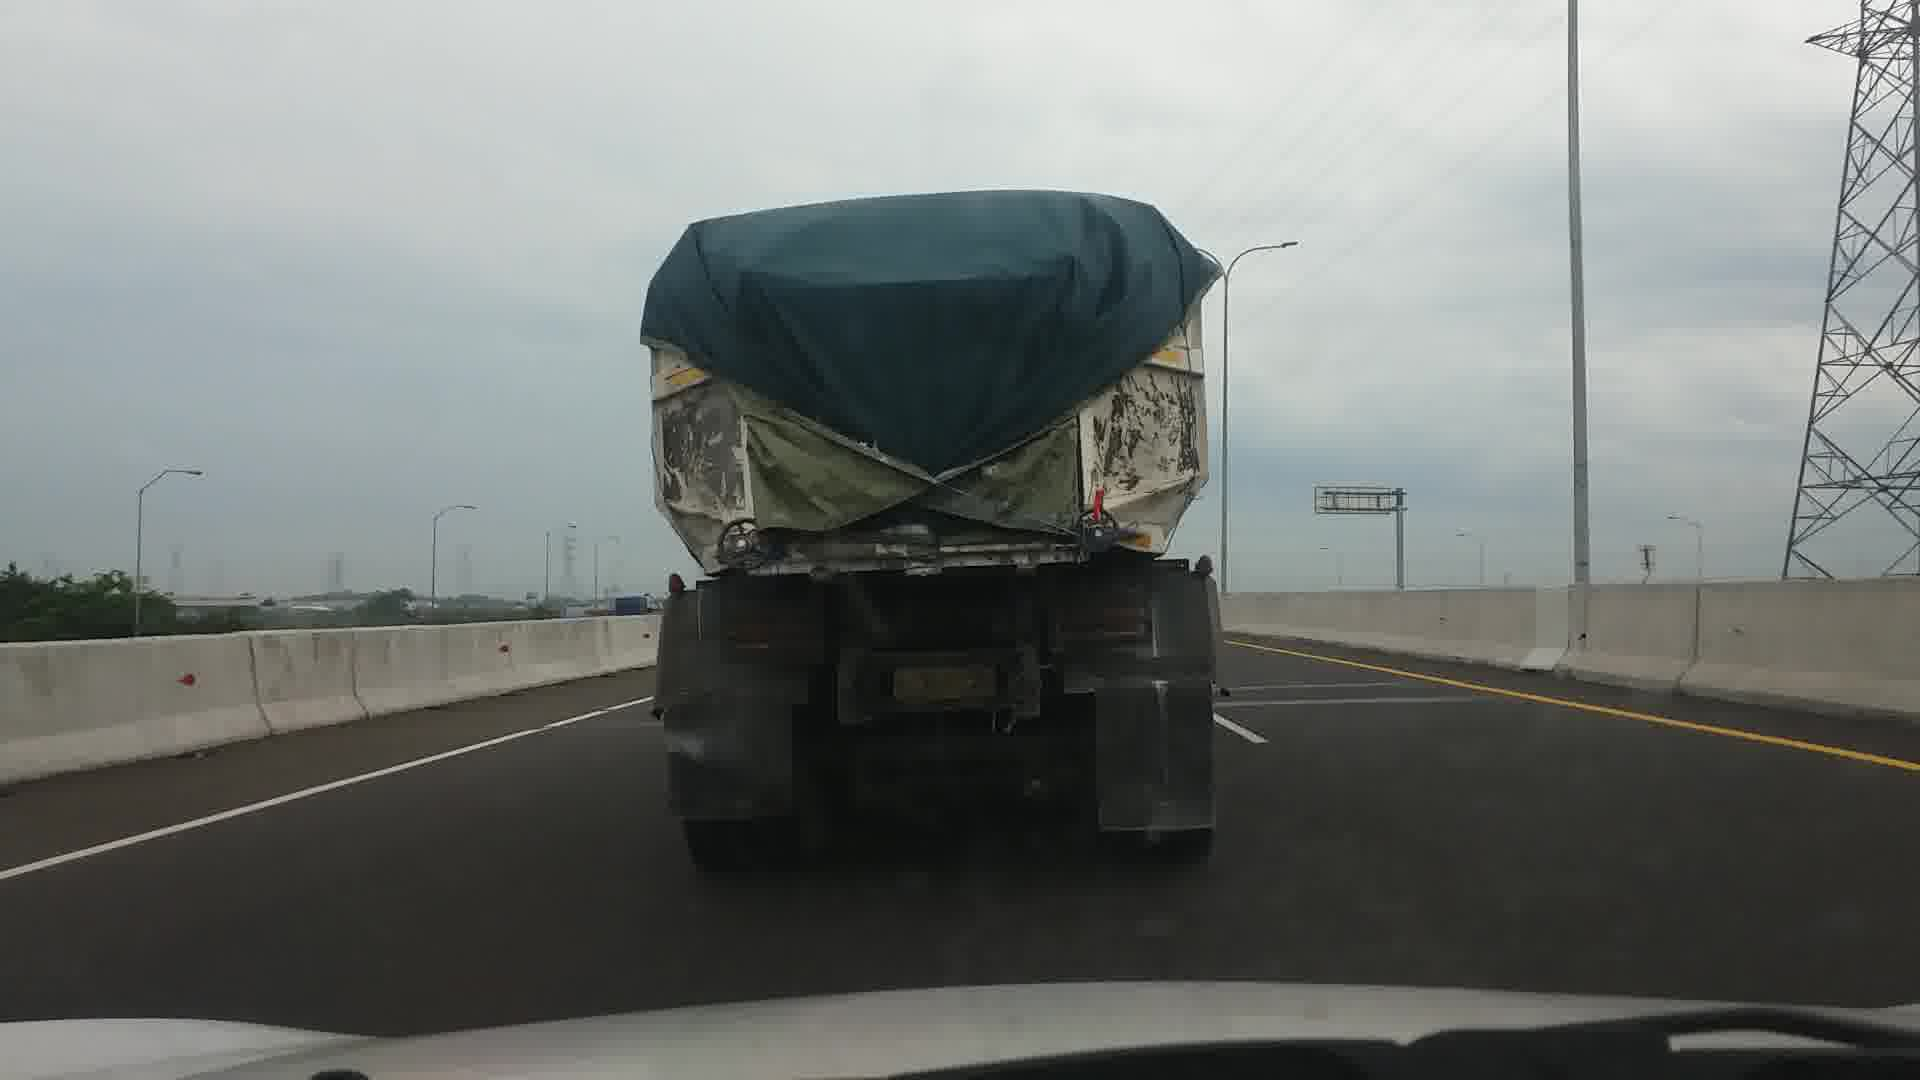plate_positive: (893, 665, 997, 698)
